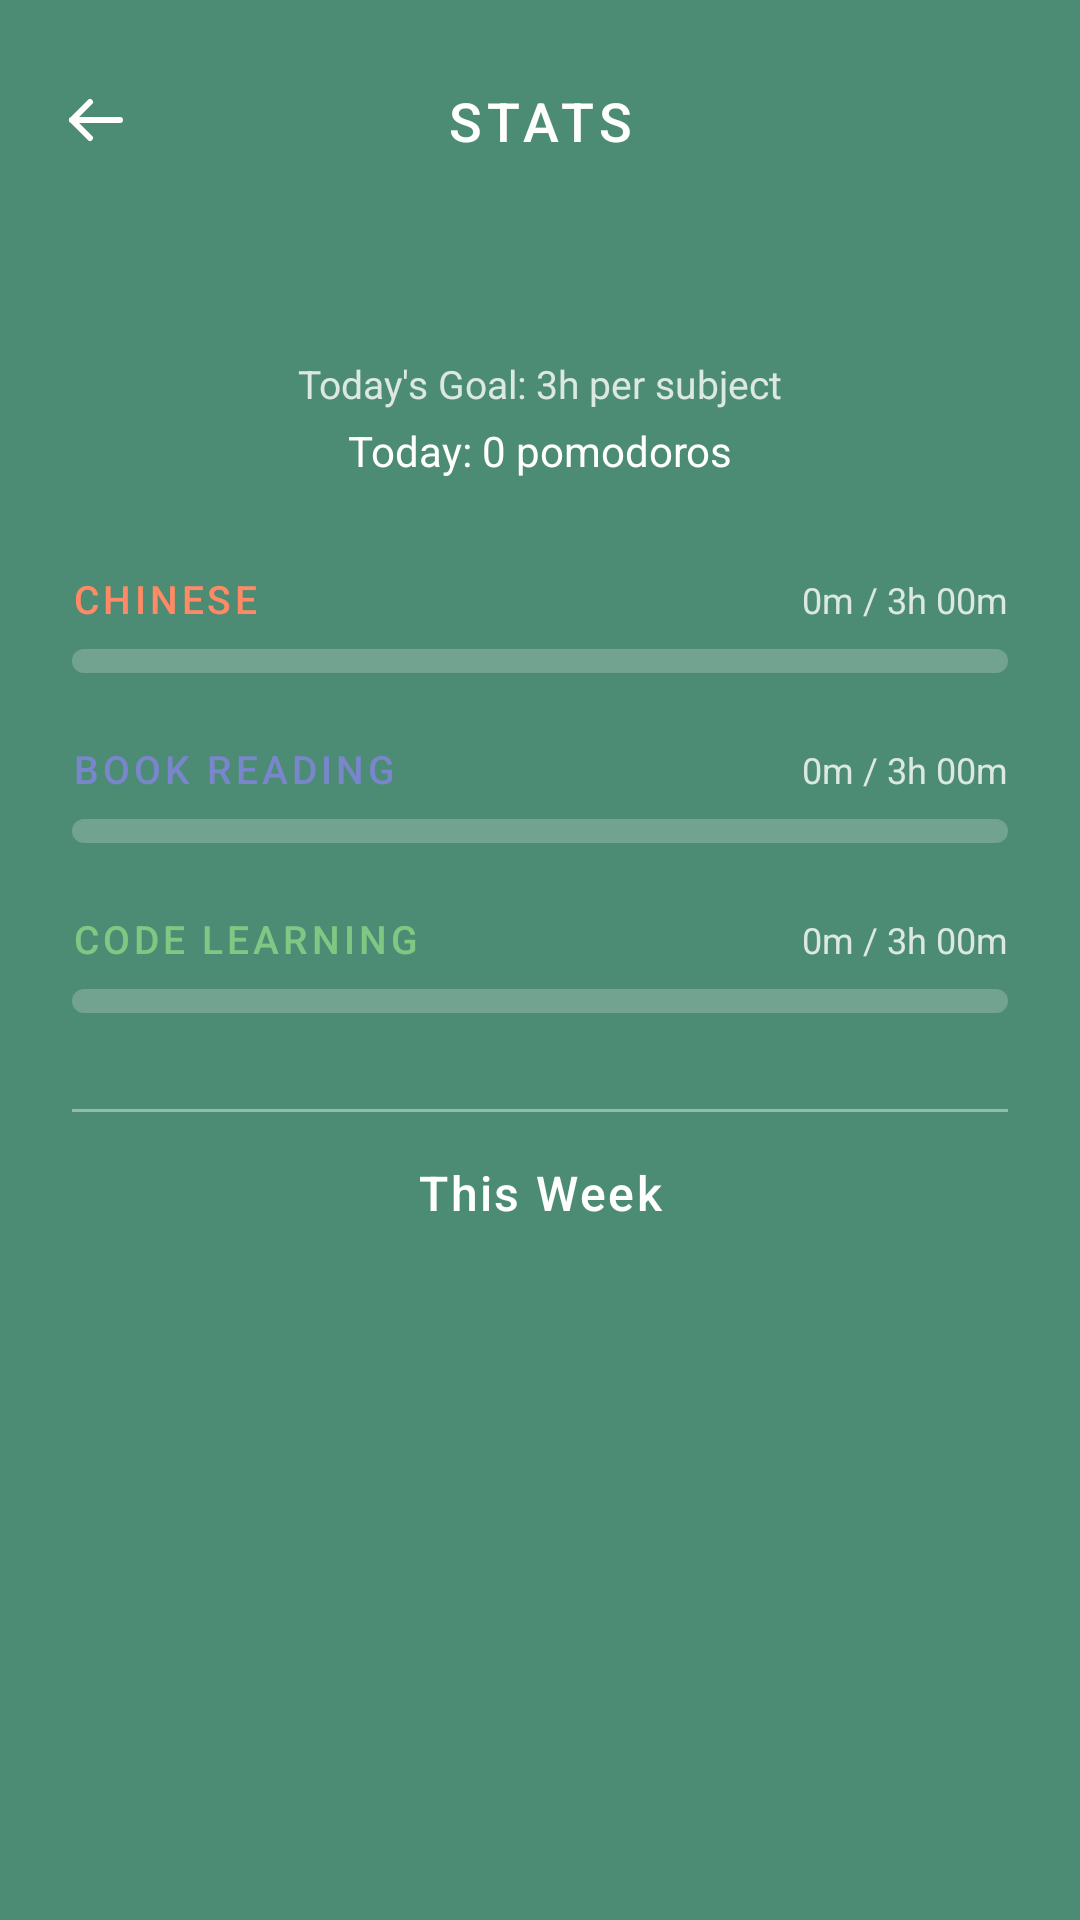

Screen size 1080w x 1920h. Icon name, then its center in pixels as [x,y]:
Back: [96,120]
